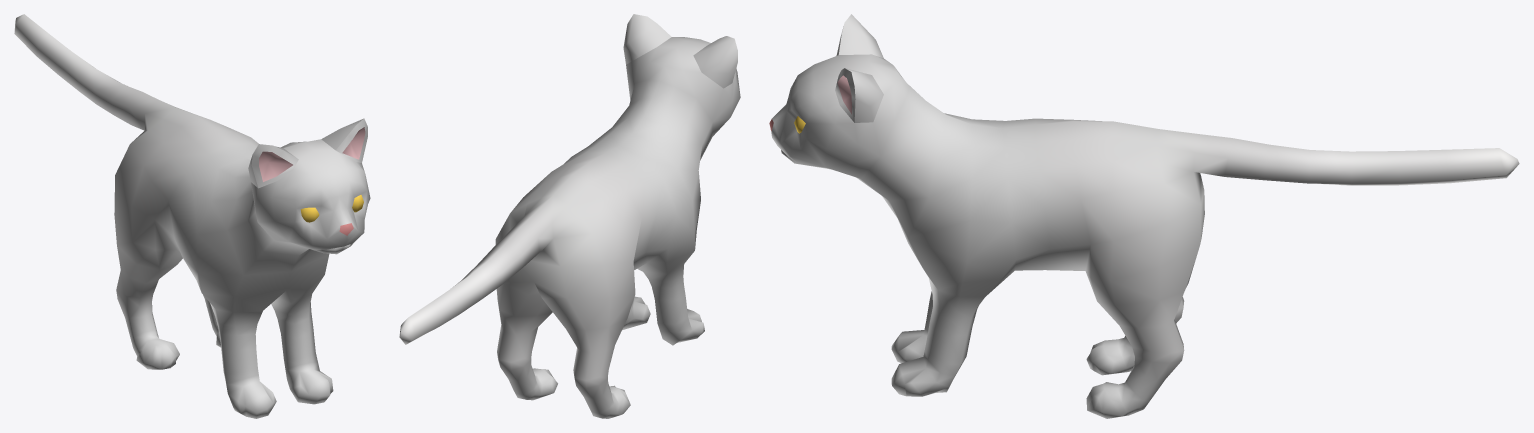
The model's file is Kitty_001_embedded.gltf.
The picture shows the model from 3 angles, left to right: view 1: azimuth 30°, elevation 25°; view 2: azimuth 150°, elevation 25°; view 3: azimuth 270°, elevation 25°; orthographic projection. The views are drawn at different scales.
Parts seen in each view (by area): view 1: kitty_001_Mesh.061; view 2: kitty_001_Mesh.061; view 3: kitty_001_Mesh.061.
Part boxes in pixels (x1=…): kitty_001_Mesh.061: x1=14, y1=14, x2=370, y2=418; kitty_001_Mesh.061: x1=399, y1=14, x2=740, y2=418; kitty_001_Mesh.061: x1=769, y1=14, x2=1519, y2=418.
Size of the model in its own units: 19.62 by 45.09 by 88.03.
1 material, 1 textured.
